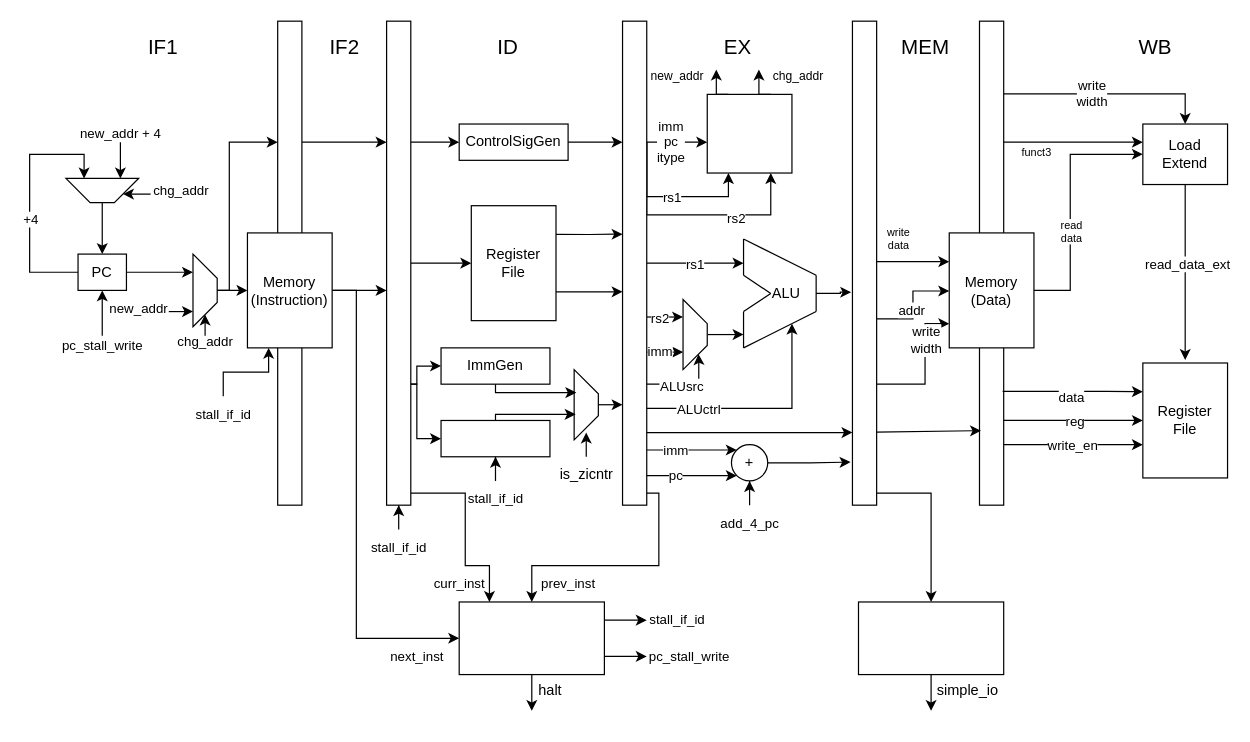
Image size: 1250x742. Some labels were removed from this diagram. The shapes that lost their labels are listed below. From the top down, each one's centre as x and y in pixels, then its label:
At (749,133): "JumpBranch Calculate".
At (495,438): "ZicntrReg".
At (531,638): "Orchestrator".
At (930,638): "Directional Buffer".
